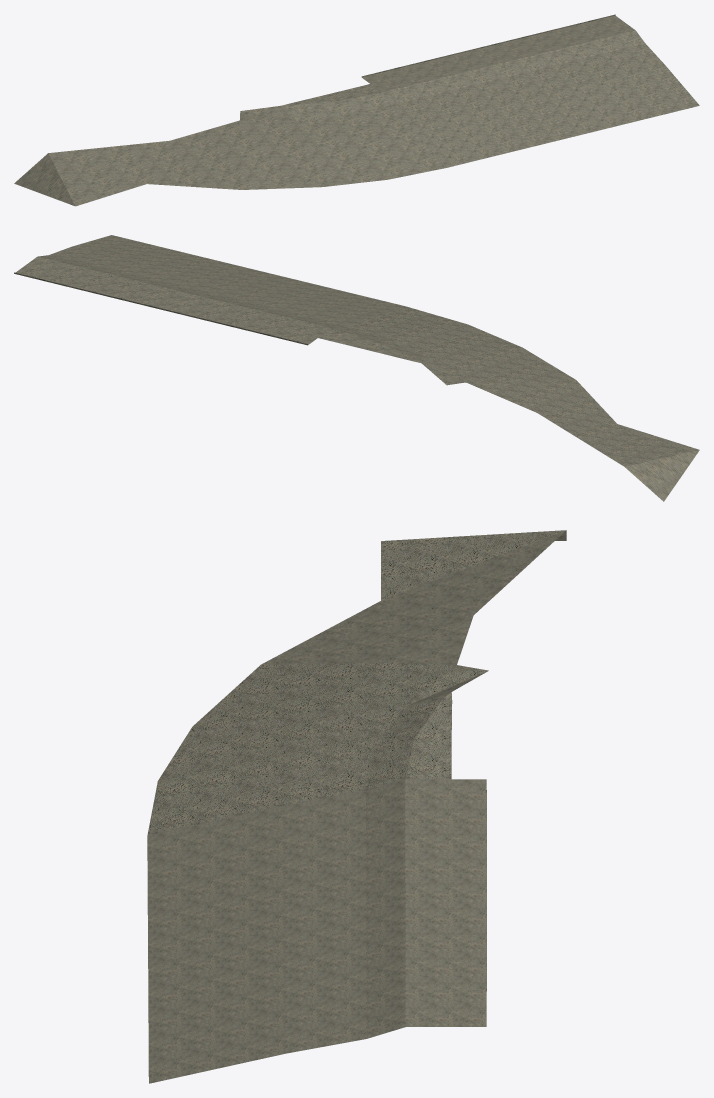
Rendered from lodch1_las05.obj.
3 views of the same model, one above another, from view 1: azimuth 30°, elevation 25°; view 2: azimuth 150°, elevation 25°; view 3: azimuth 270°, elevation 25° (orthographic). The views are drawn at different scales.
Parts seen in each view (by area): view 1: LODch1_LAs05; view 2: LODch1_LAs05; view 3: LODch1_LAs05.
Part boxes in pixels (x1=…): LODch1_LAs05: x1=14, y1=14, x2=699, y2=206; LODch1_LAs05: x1=14, y1=235, x2=699, y2=501; LODch1_LAs05: x1=147, y1=530, x2=566, y2=1083.
Size of the model in its own units: 398 by 27.35 by 124.
1 material, 1 textured.
